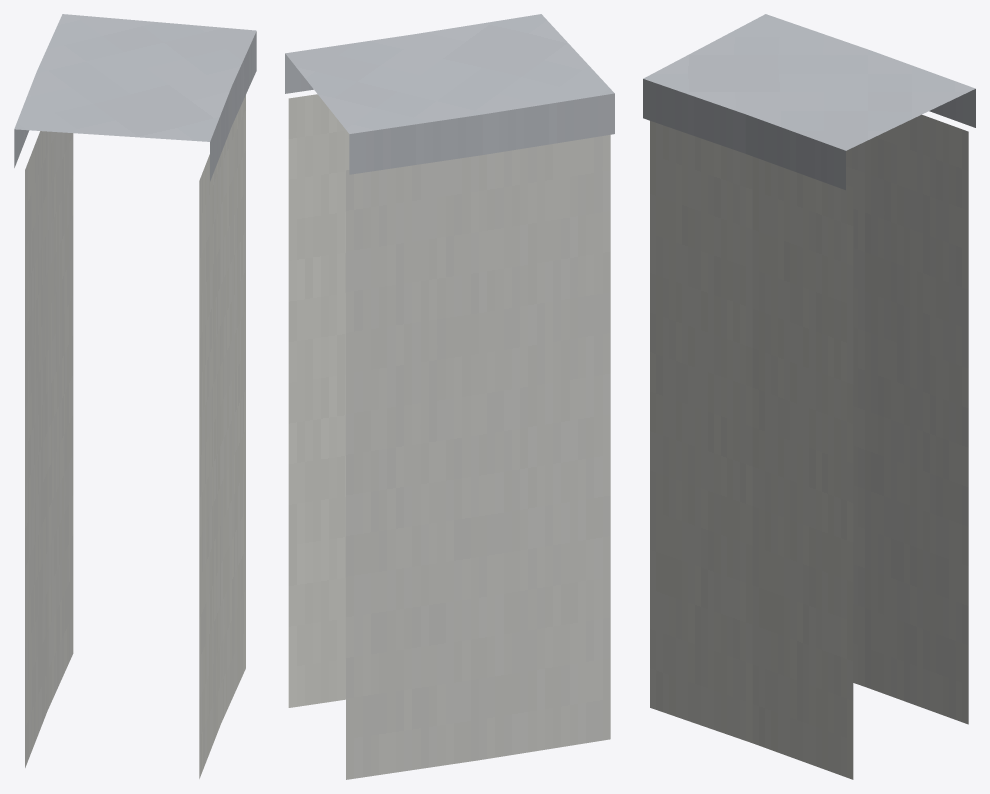
Rendered from curve_board_06.obj.
The picture shows the model from 3 angles, left to right: view 1: azimuth 30°, elevation 25°; view 2: azimuth 150°, elevation 25°; view 3: azimuth 270°, elevation 25°; orthographic projection. The views are drawn at different scales.
Visible parts, largest first — view 1: curve_board_06; view 2: curve_board_06; view 3: curve_board_06.
Part boxes in pixels (x1,y1,x2,y2): curve_board_06: (14,14,256,778); curve_board_06: (285,14,614,779); curve_board_06: (643,14,975,779).
Size of the model in its own units: 0.4641 by 1 by 0.477.
